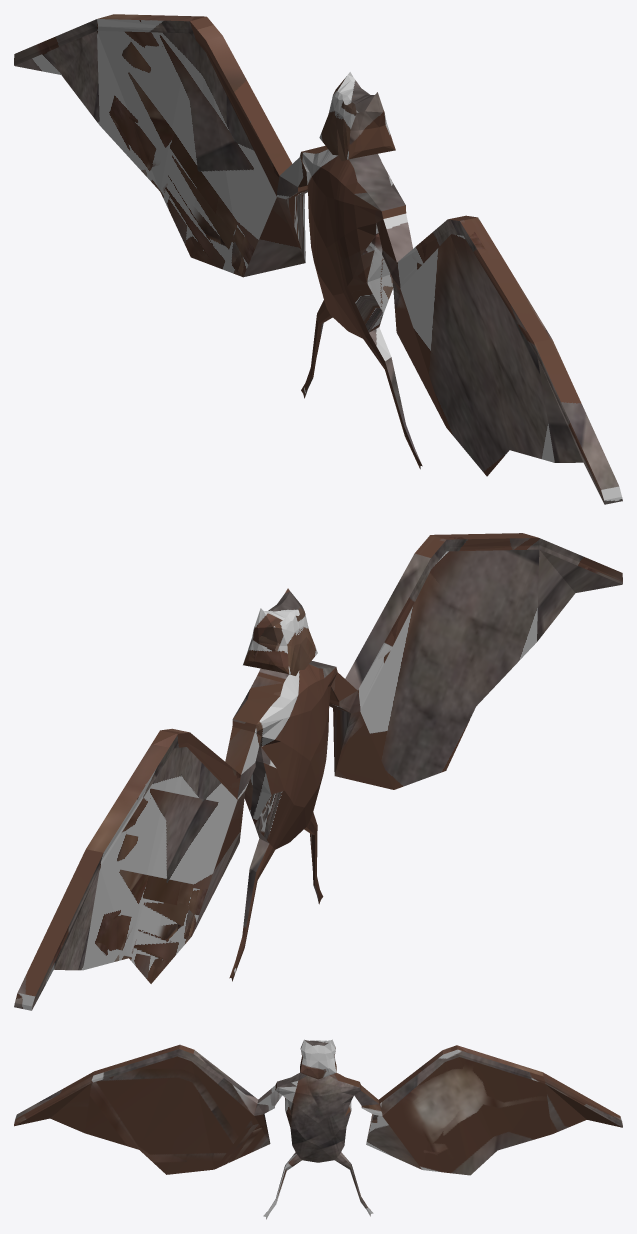
File: Enemigo12.obj
3 views of the same model, one above another, from view 1: azimuth 30°, elevation 25°; view 2: azimuth 150°, elevation 25°; view 3: azimuth 270°, elevation 25° (orthographic). The views are drawn at different scales.
Parts seen in each view (by area): view 1: Plano; view 2: Plano; view 3: Plano.
Boxes of the visible parts, x1=… form: Plano: x1=14, y1=14, x2=622, y2=504; Plano: x1=14, y1=533, x2=622, y2=1010; Plano: x1=14, y1=1039, x2=622, y2=1219.
Size of the model in its own units: 0.1743 by 0.7602 by 2.34.
Materials: 1 (1 with a texture image).
